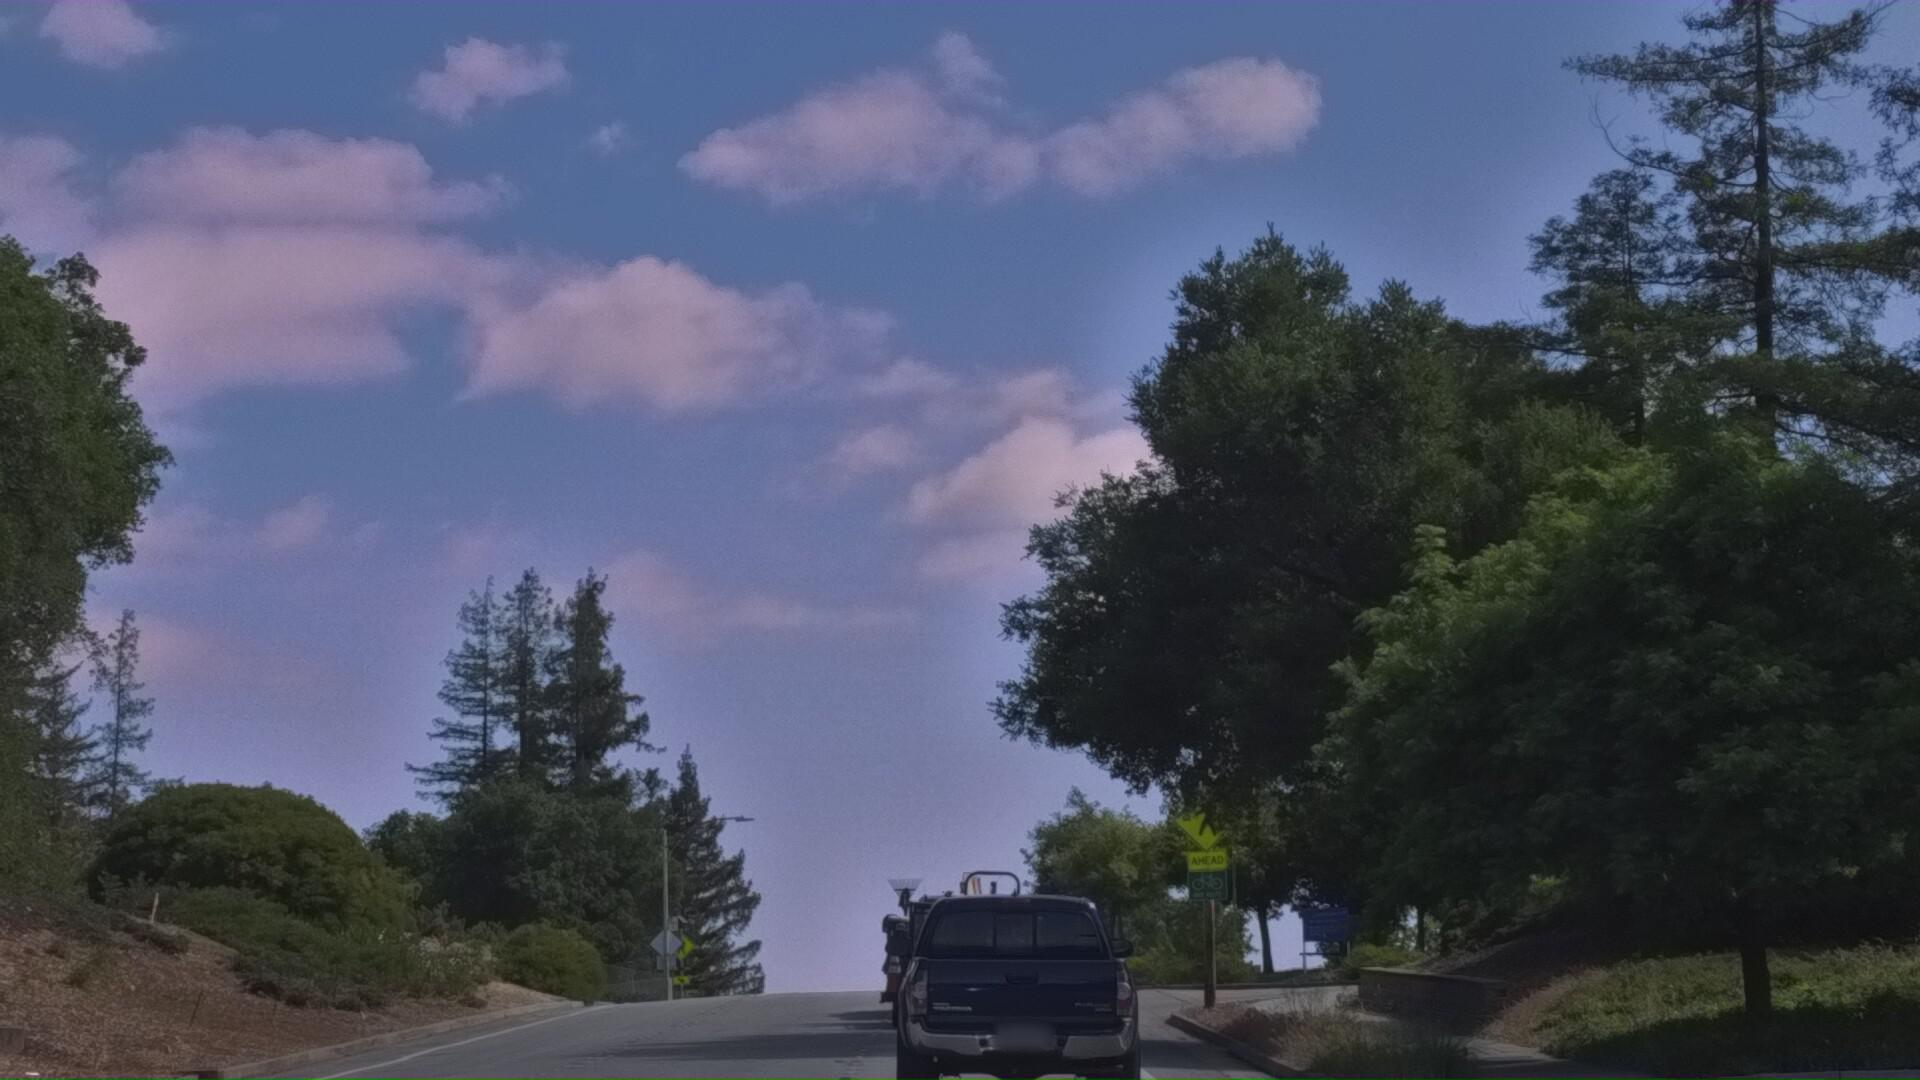car: (889, 949, 1164, 1080), (866, 927, 1062, 1080)
